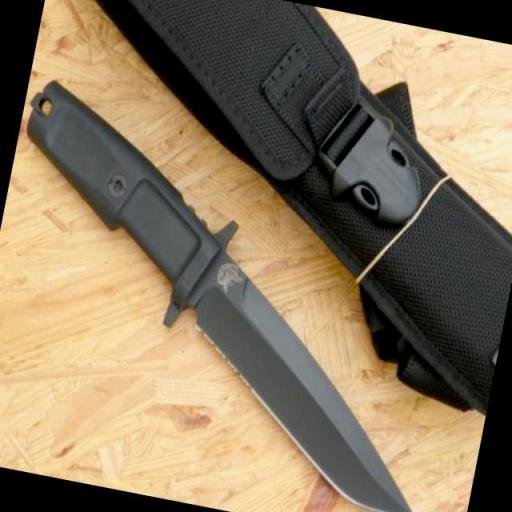knife: (127, 205, 474, 512)
